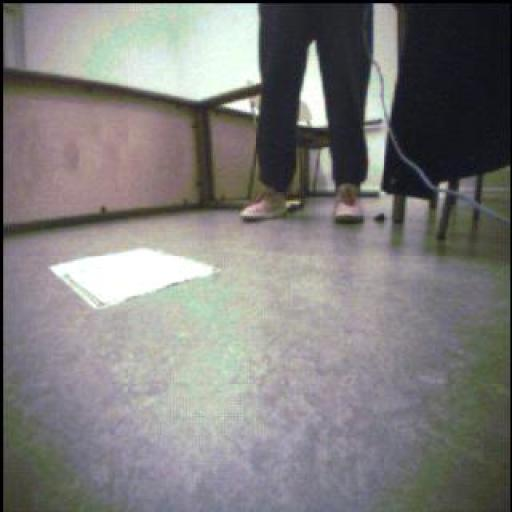Pad: (51, 249, 219, 310)
